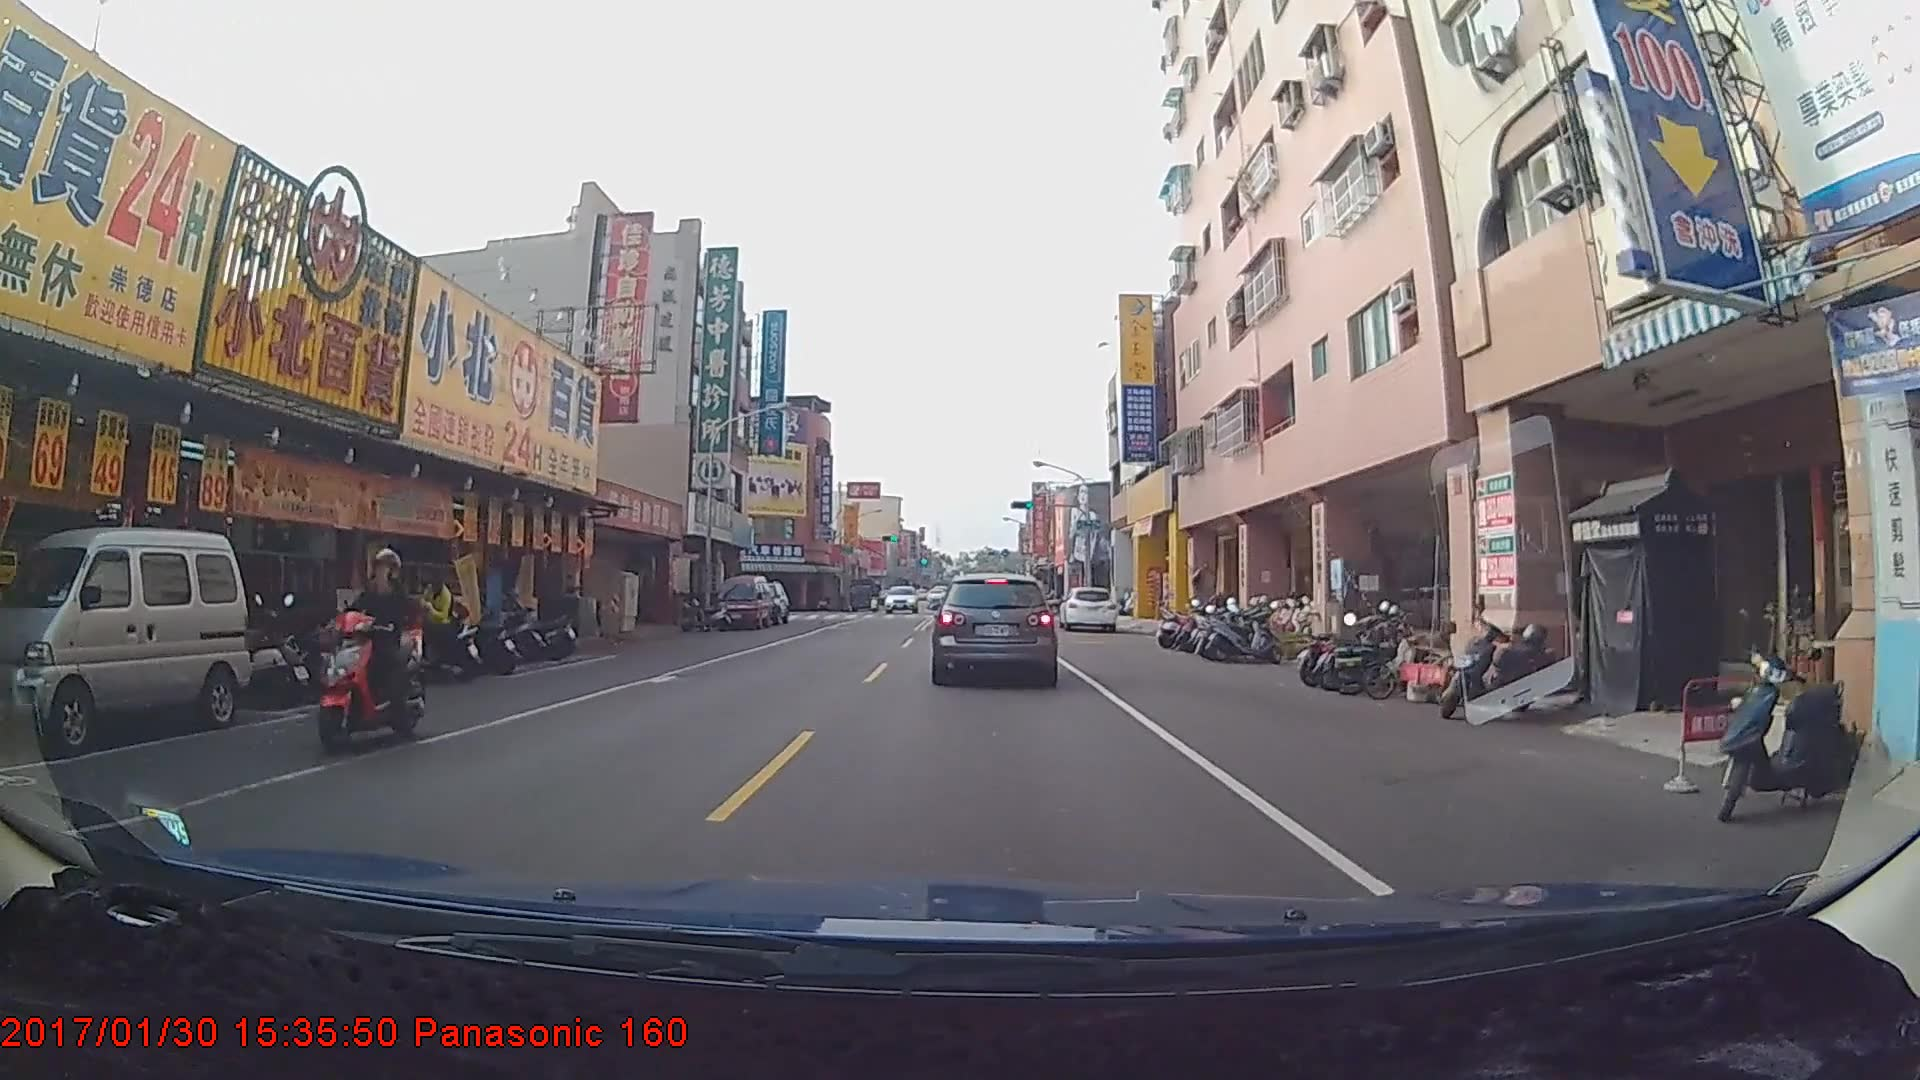pedestrian: (411, 571, 452, 671)
rider: (318, 549, 431, 757)
vehicle: (0, 525, 252, 749), (934, 570, 1055, 684), (715, 570, 773, 626), (1057, 584, 1116, 632), (882, 582, 920, 613)
